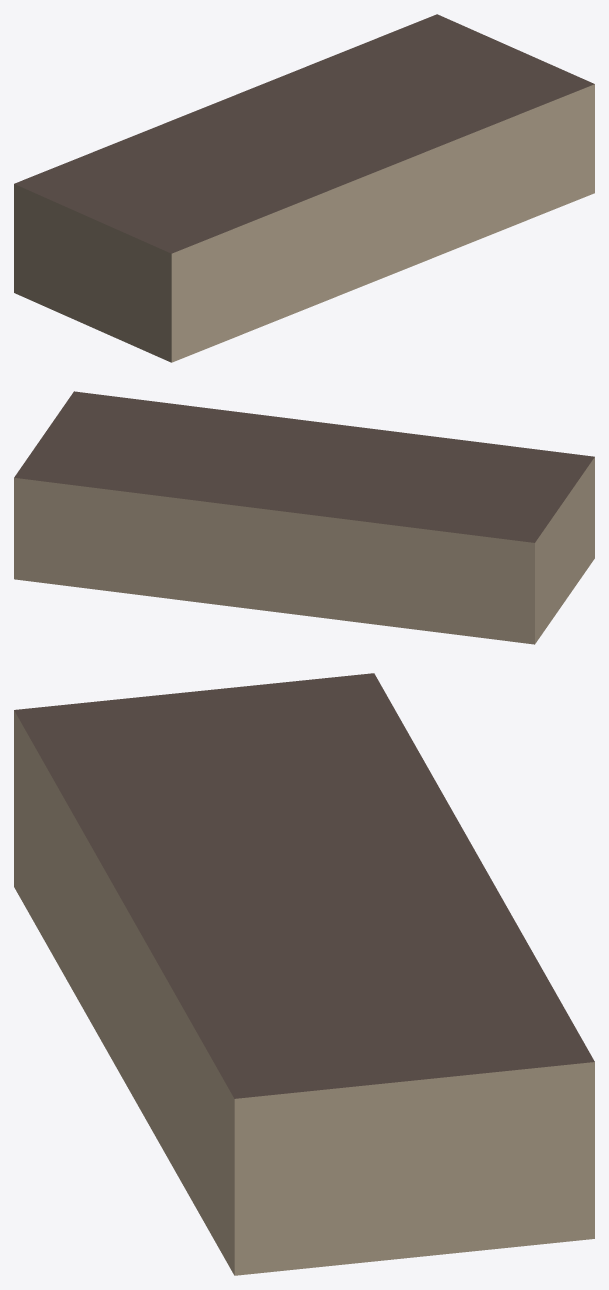
3 views of the same model, one above another, from view 1: azimuth 30°, elevation 25°; view 2: azimuth 150°, elevation 25°; view 3: azimuth 270°, elevation 25° (orthographic). The views are drawn at different scales.
Parts seen in each view (by area): view 1: HP-w859488634; view 2: HP-w859488634; view 3: HP-w859488634.
Boxes of the visible parts, x1,y1,x2,y2 form: HP-w859488634: [14, 14, 594, 362]; HP-w859488634: [14, 391, 594, 644]; HP-w859488634: [14, 673, 594, 1275].
Bounding box in the file's own units: 46.45 × 9 × 26.79.
